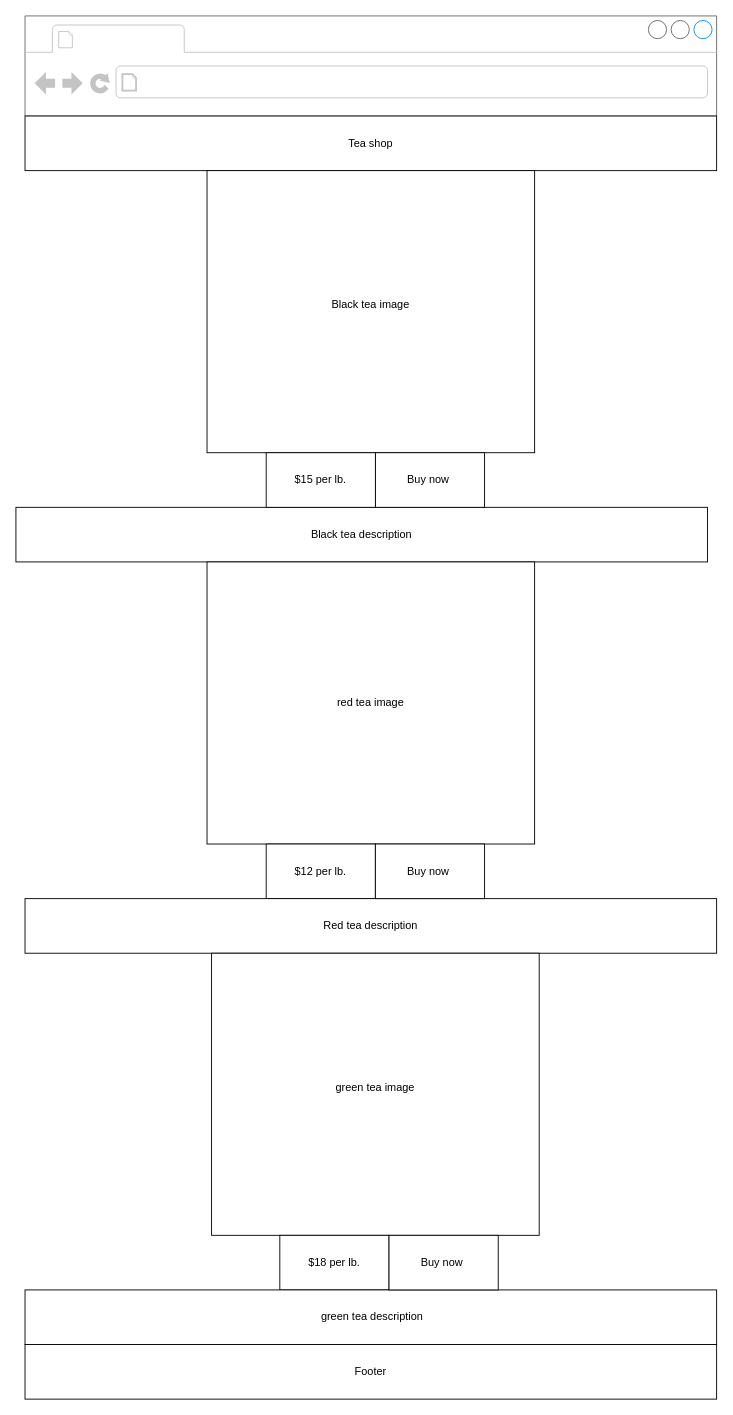
This 733x1415 diagram has some shape labels left out. The shapes that lost their labels are listed below. From the top down, each one's centre as x and y in pixels, then its label:
At pixel 129 38: "Page 1".
At pixel 256 82: "https://www.draw.io".
